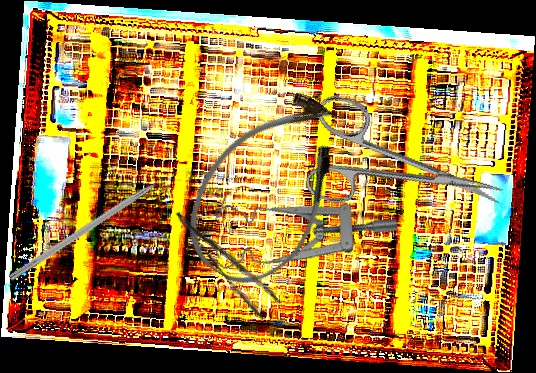Cannula: (164, 73, 375, 304)
Chopper: (7, 167, 184, 291)
Dressing Forceps: (172, 195, 283, 323)
Iris Scissors: (294, 92, 516, 249)
Speculum: (197, 161, 402, 319)
